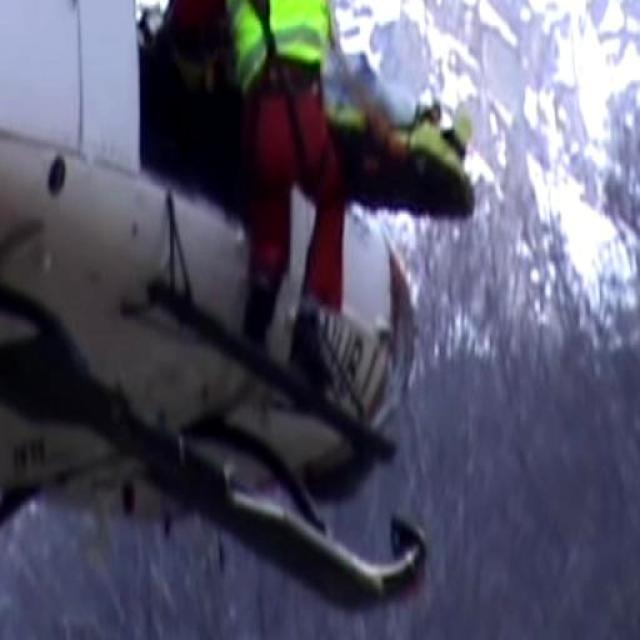drone: (0, 0, 428, 640)
